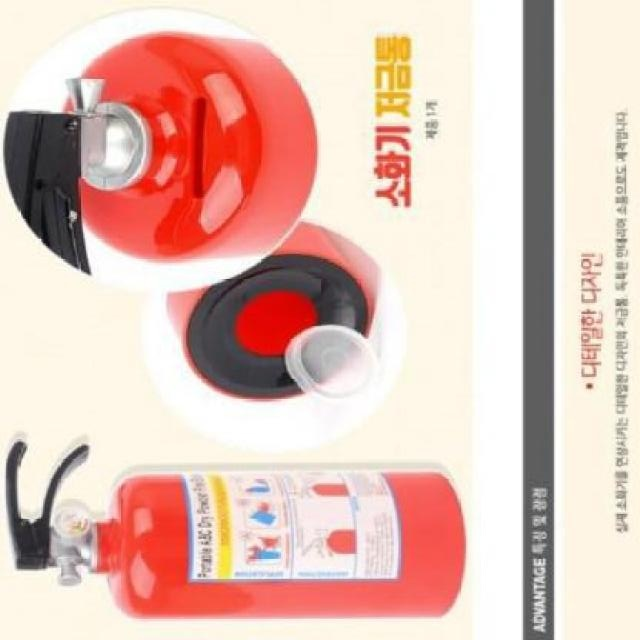fire extinguisher: (4, 441, 467, 621)
